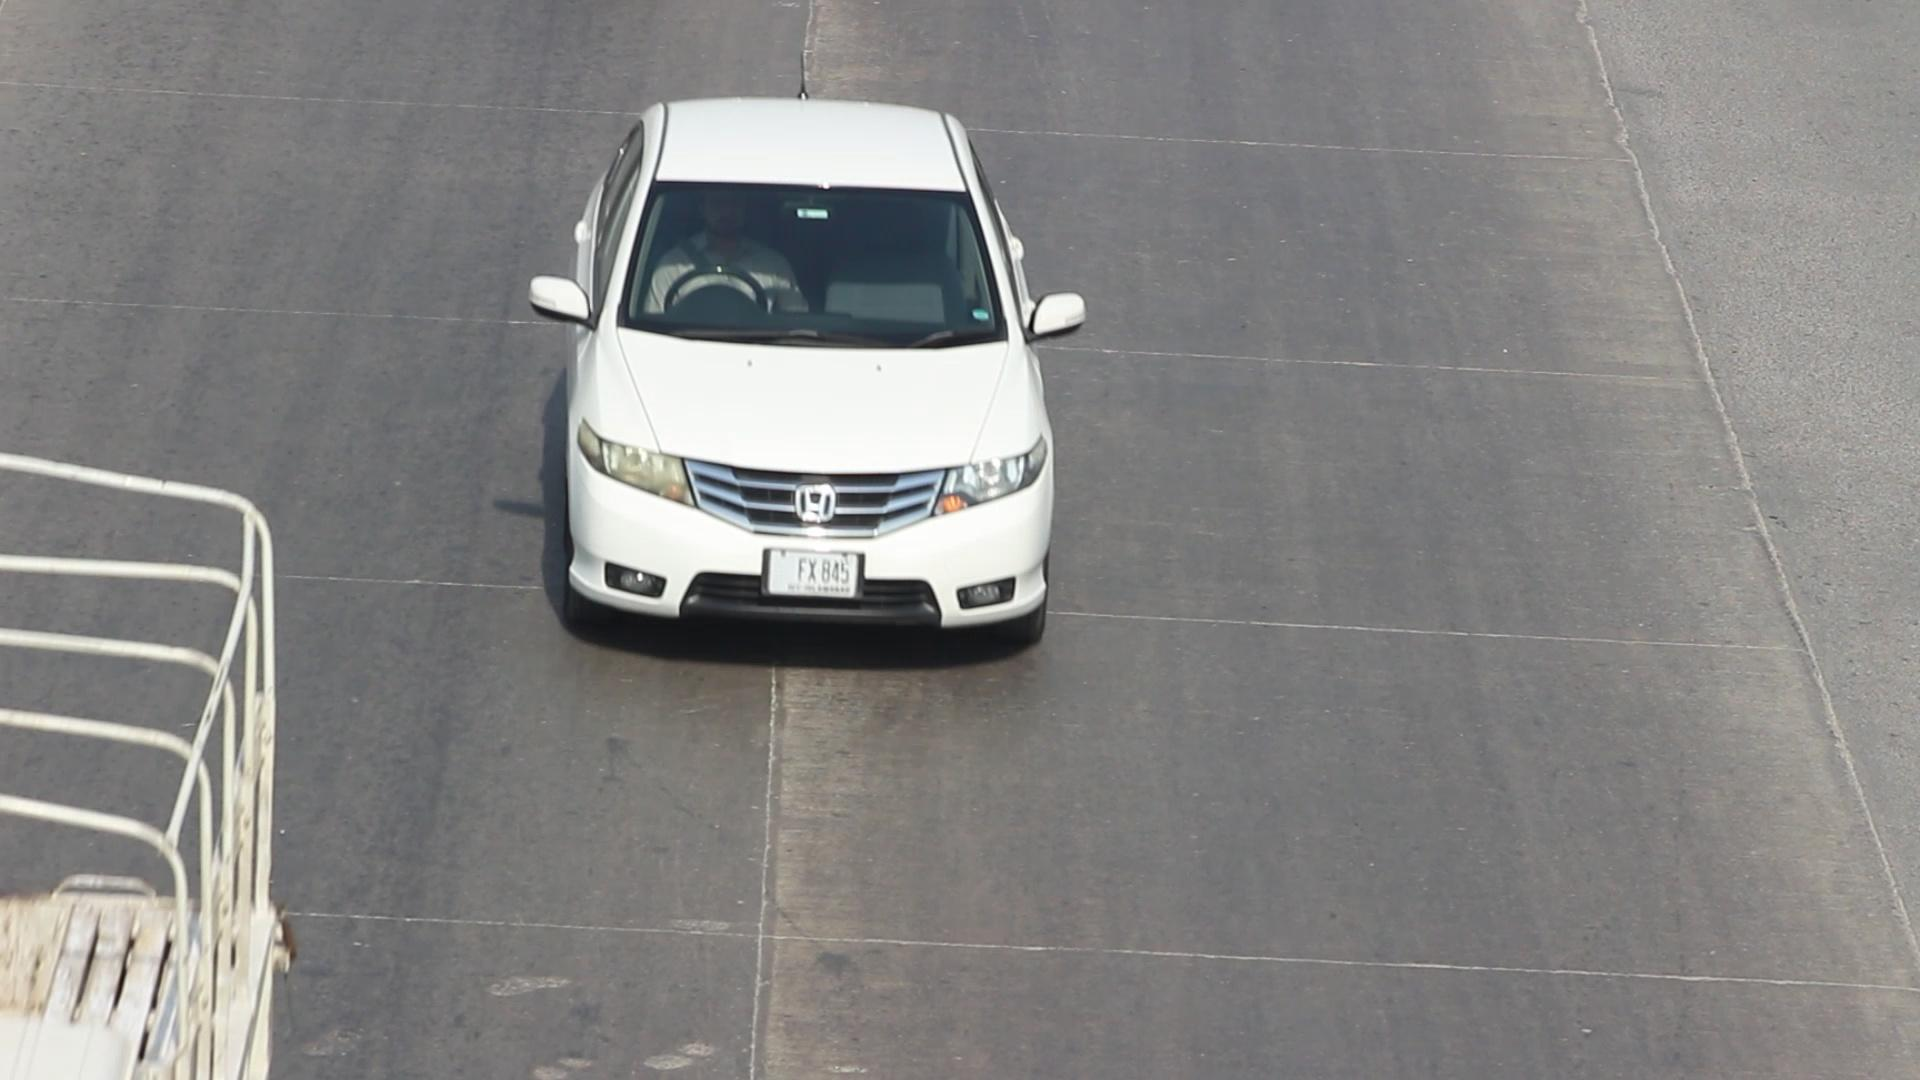windshield: (597, 164, 1023, 347)
